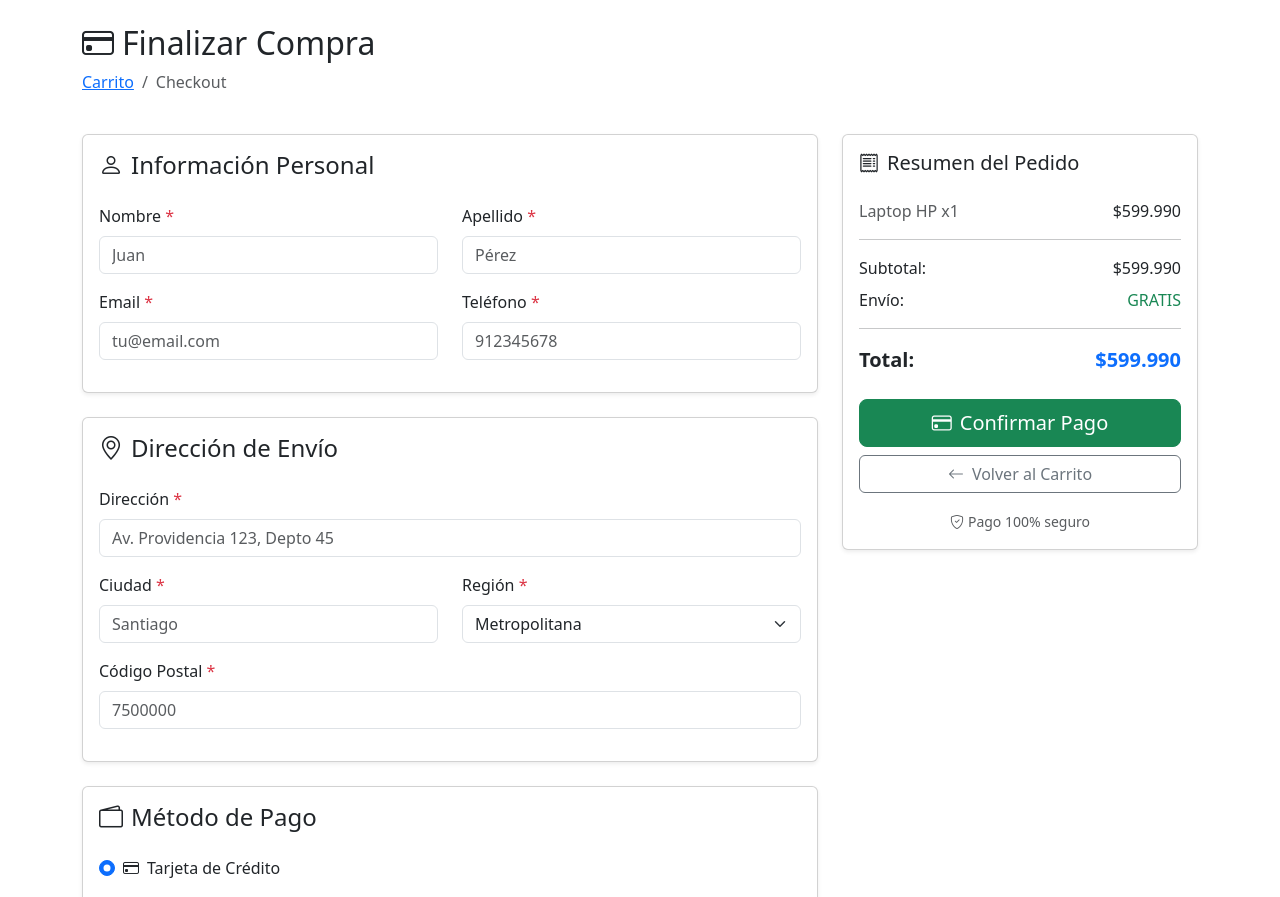
Scenario: Checkout Component › Test 10: Validación de formulario (checkout)
Click the button with test id "submit-btn" at (1020, 423), box x1=859 y1=399 x2=1181 y2=447
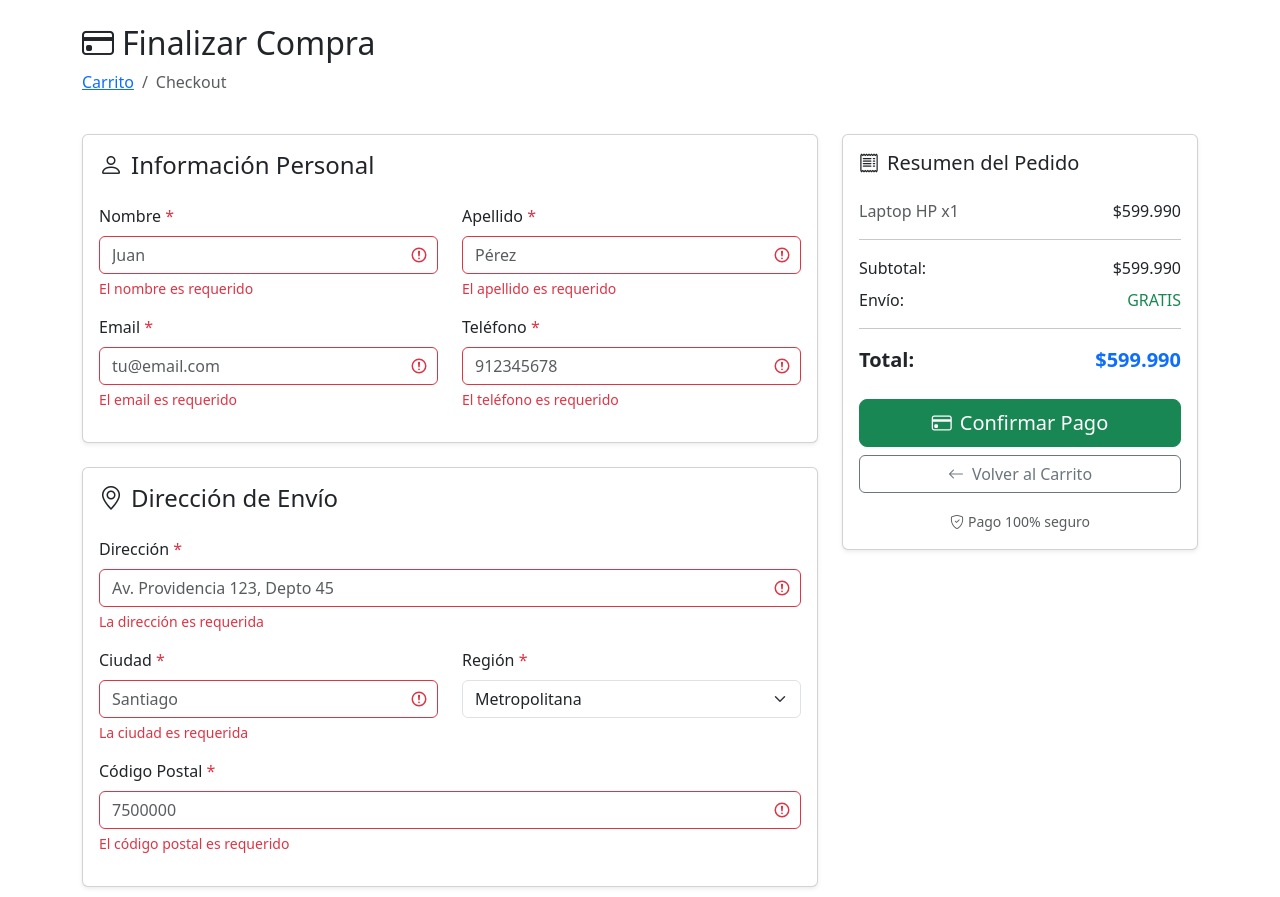
Expected: the text with test id "email-error" reads "El email es requerido", x1=99 y1=390 x2=237 y2=409
Note: Probar con email válido
Type "test@example.com" into the field with test id "email-input" at (268, 366), box x1=99 y1=347 x2=438 y2=385
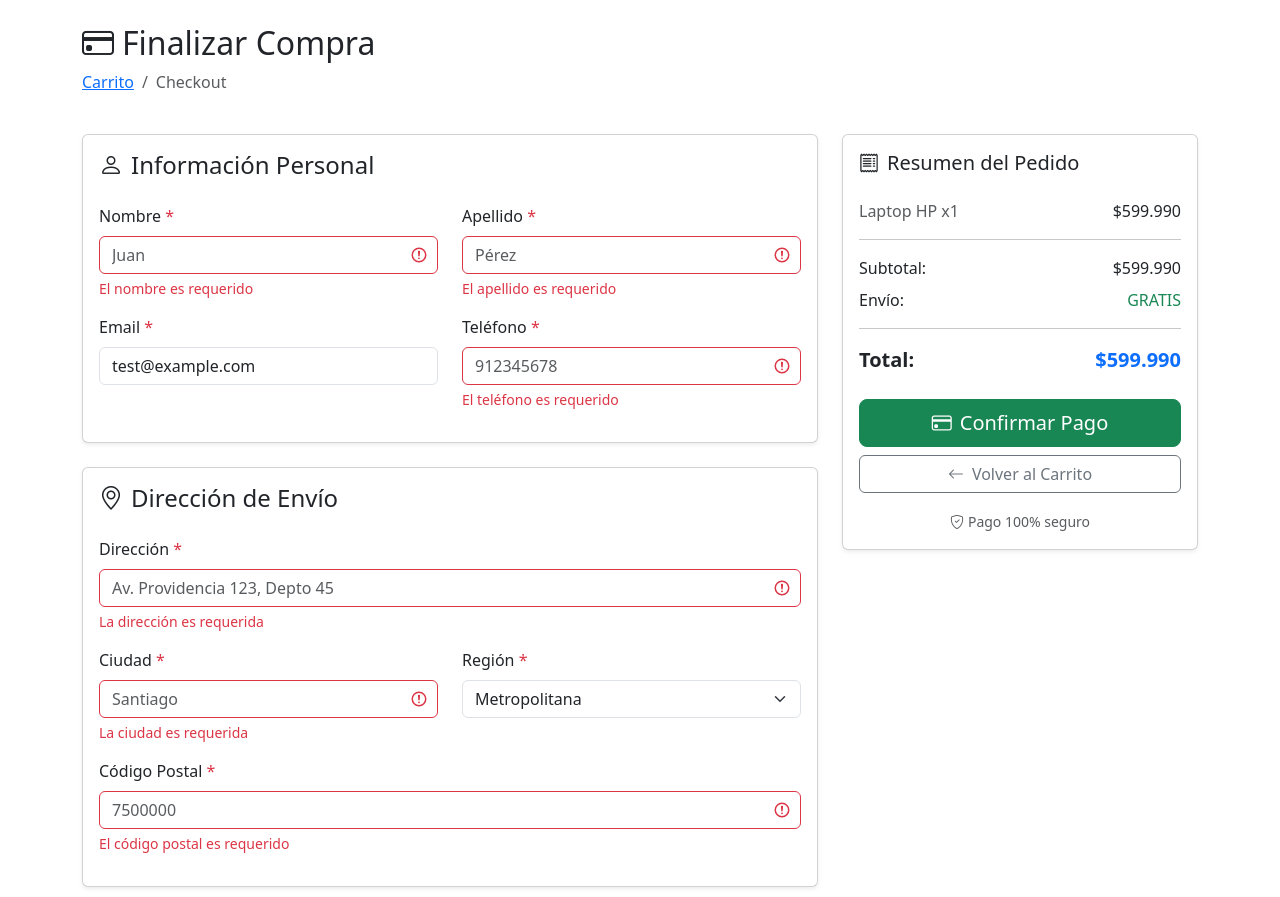
Expected: the text with test id "email-error" is gone
